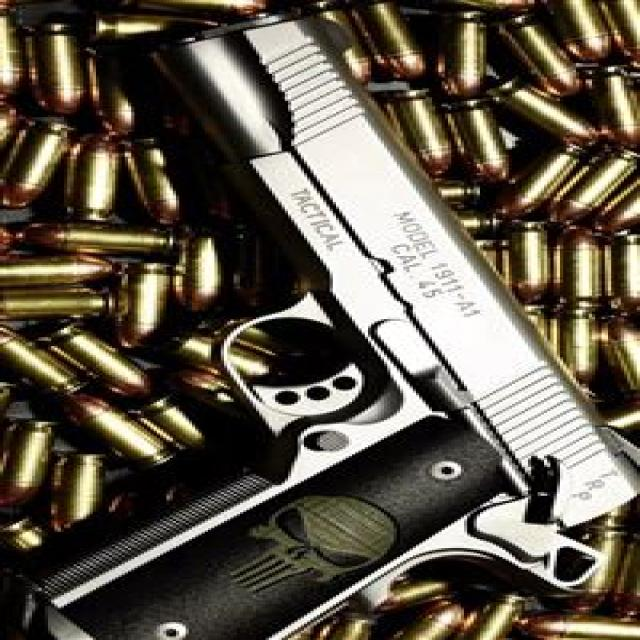handgun: (19, 11, 640, 638)
